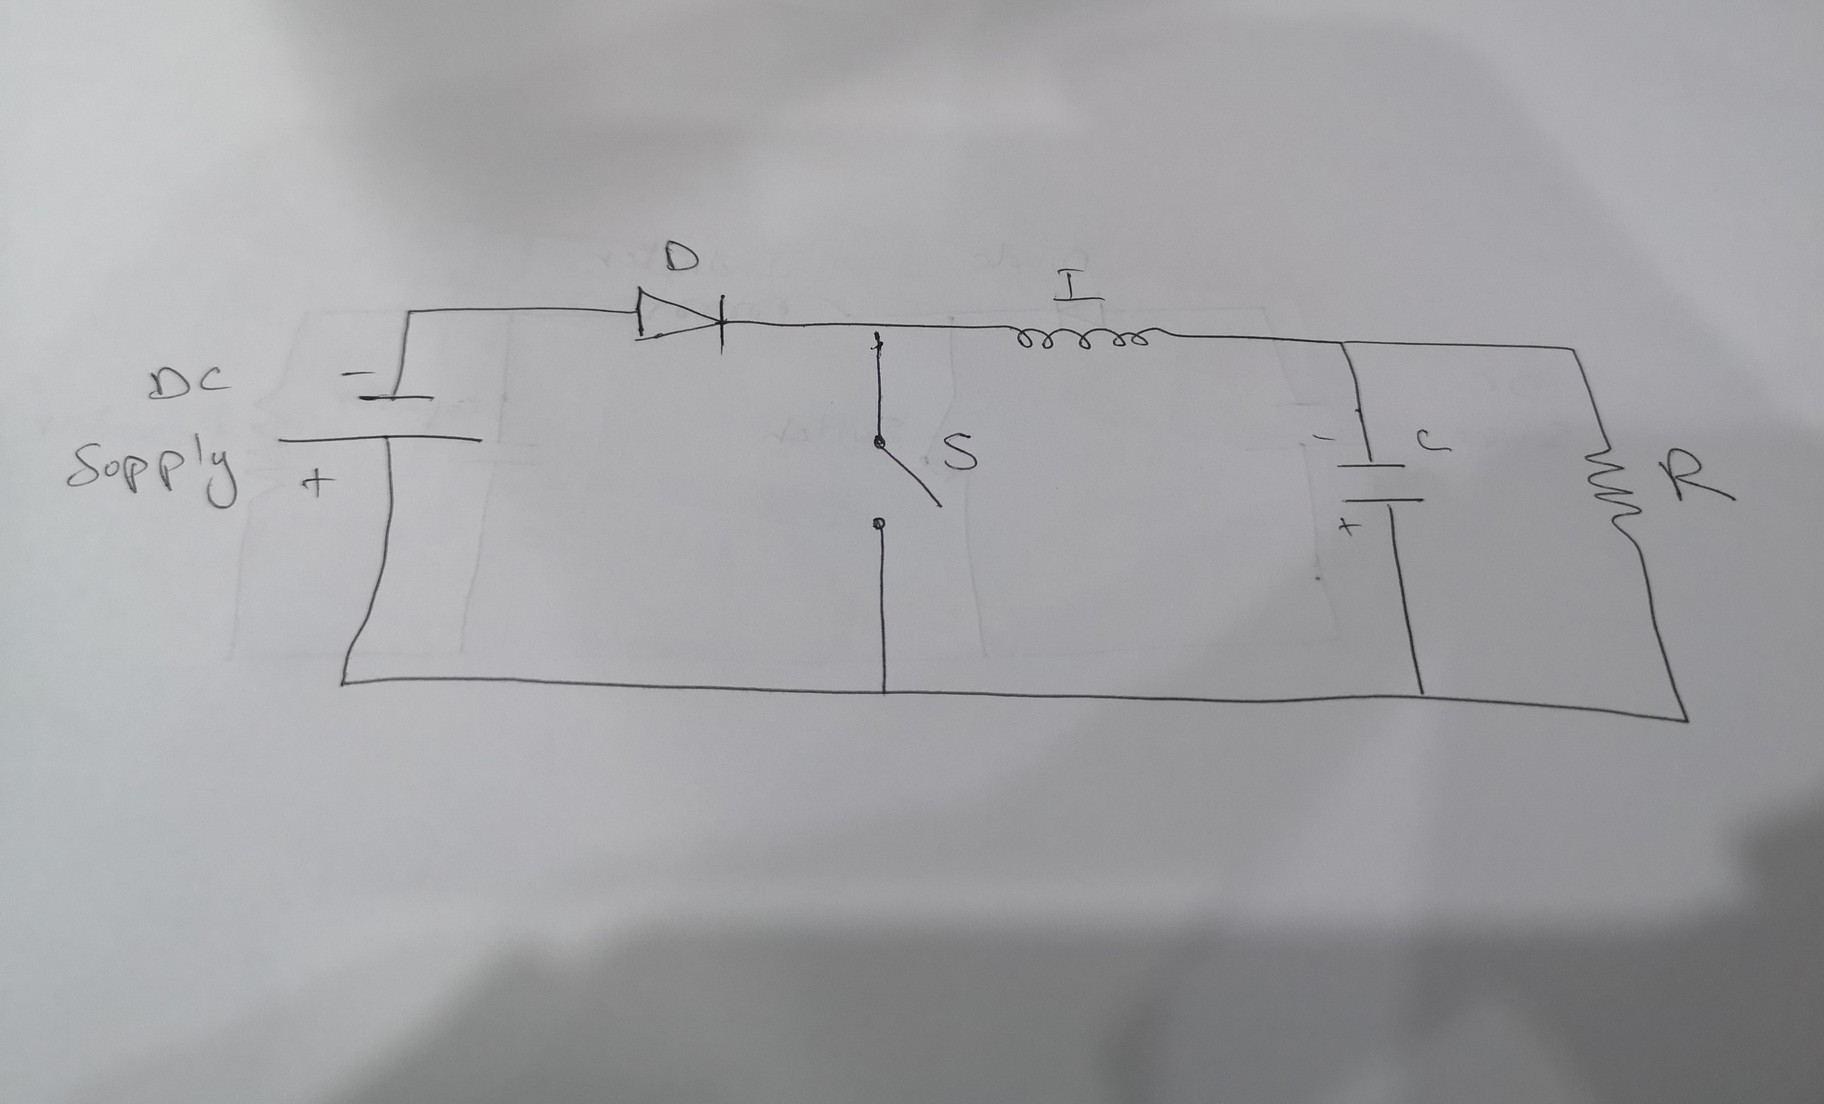capacitor.polarized: (1308, 430, 1428, 542)
diode: (629, 283, 734, 358)
inductor: (1010, 321, 1175, 355)
junction: (864, 314, 892, 348), (1408, 684, 1434, 710), (1561, 339, 1587, 364), (396, 302, 421, 327), (873, 678, 895, 703), (1674, 710, 1698, 730), (1332, 332, 1351, 355), (332, 674, 353, 692)
resistor: (1580, 434, 1647, 542)
switch: (862, 433, 947, 536)
text: (70, 431, 238, 508), (1655, 444, 1739, 504), (142, 360, 232, 401), (920, 430, 982, 482), (659, 232, 705, 279), (1054, 261, 1097, 300), (1412, 425, 1455, 459)
voltage.dc: (270, 364, 498, 502)
